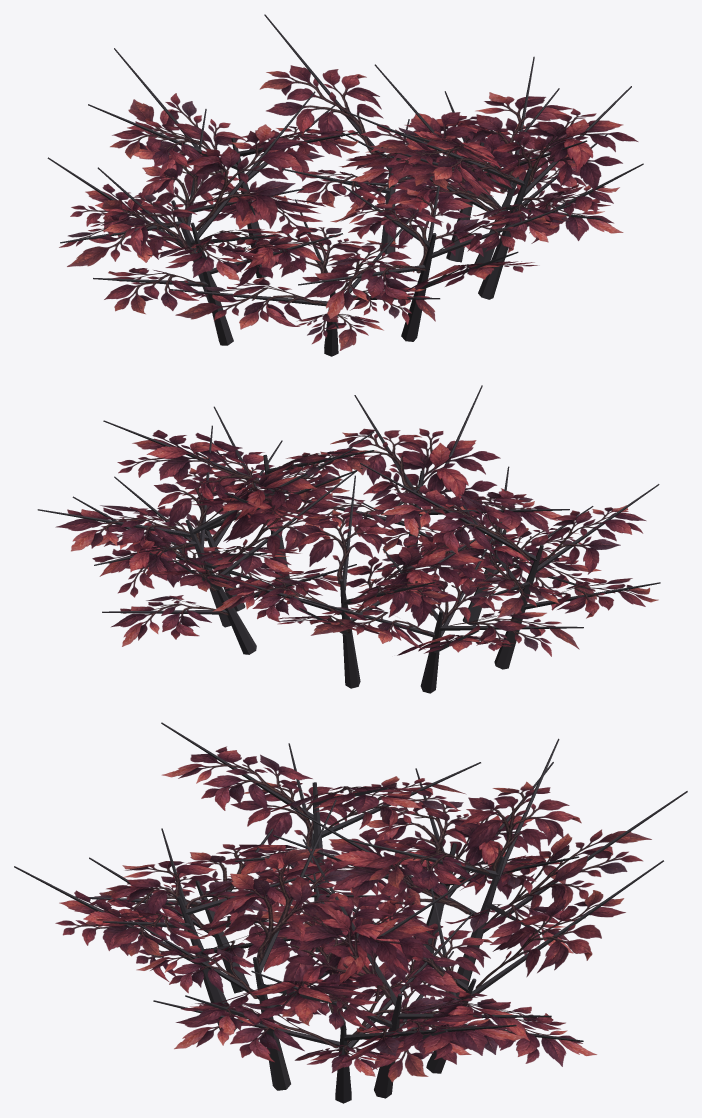
Rendered from ash-heath.glb.
3 renders of one model, top to bottom at view 1: azimuth 30°, elevation 25°; view 2: azimuth 150°, elevation 25°; view 3: azimuth 270°, elevation 25°, orthographic. The views are drawn at different scales.
Visible parts, largest first — view 1: ash-heath; view 2: ash-heath; view 3: ash-heath.
Boxes of the visible parts, left/top/right/bottom form: ash-heath: left=47, top=14, right=643, bottom=356; ash-heath: left=37, top=385, right=660, bottom=693; ash-heath: left=14, top=722, right=687, bottom=1103.
Size of the model in its own units: 2.96 by 0.9607 by 2.53.
2 materials, 1 textured.
